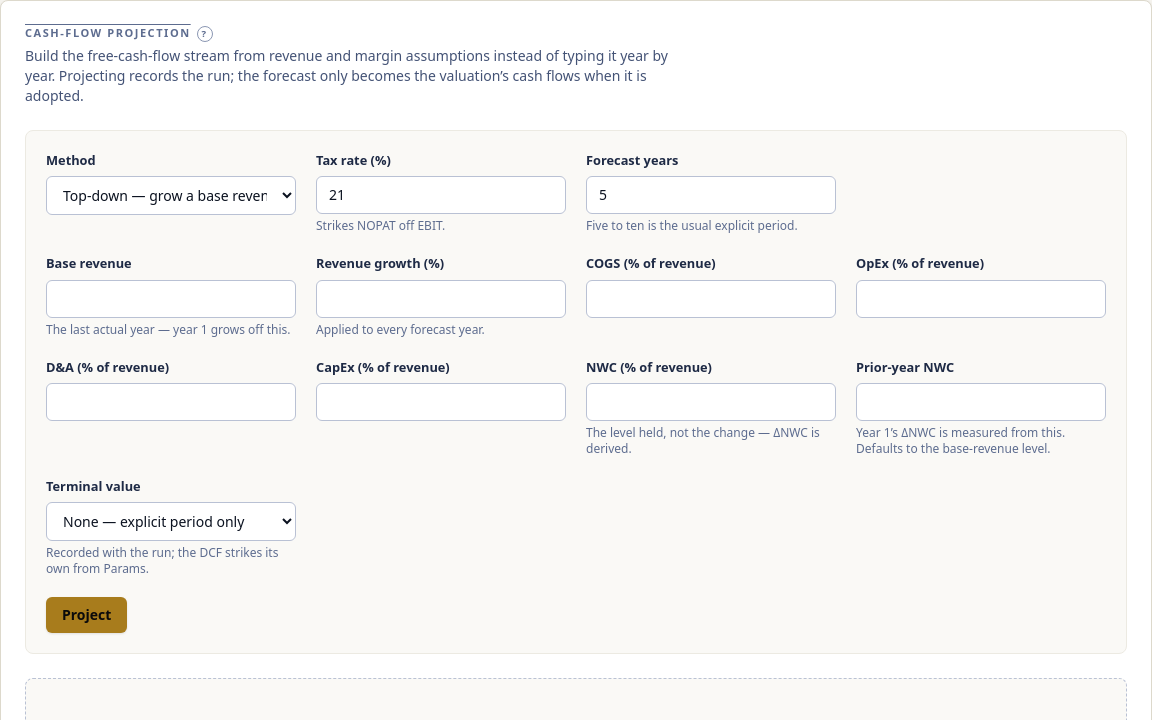
Test: ProjectionPanel › refuses a Gordon terminal value the discount rate cannot support, without a round trip
Type "8000000" into the field labelled "Base revenue" at (171, 299), box [46, 280, 296, 318]
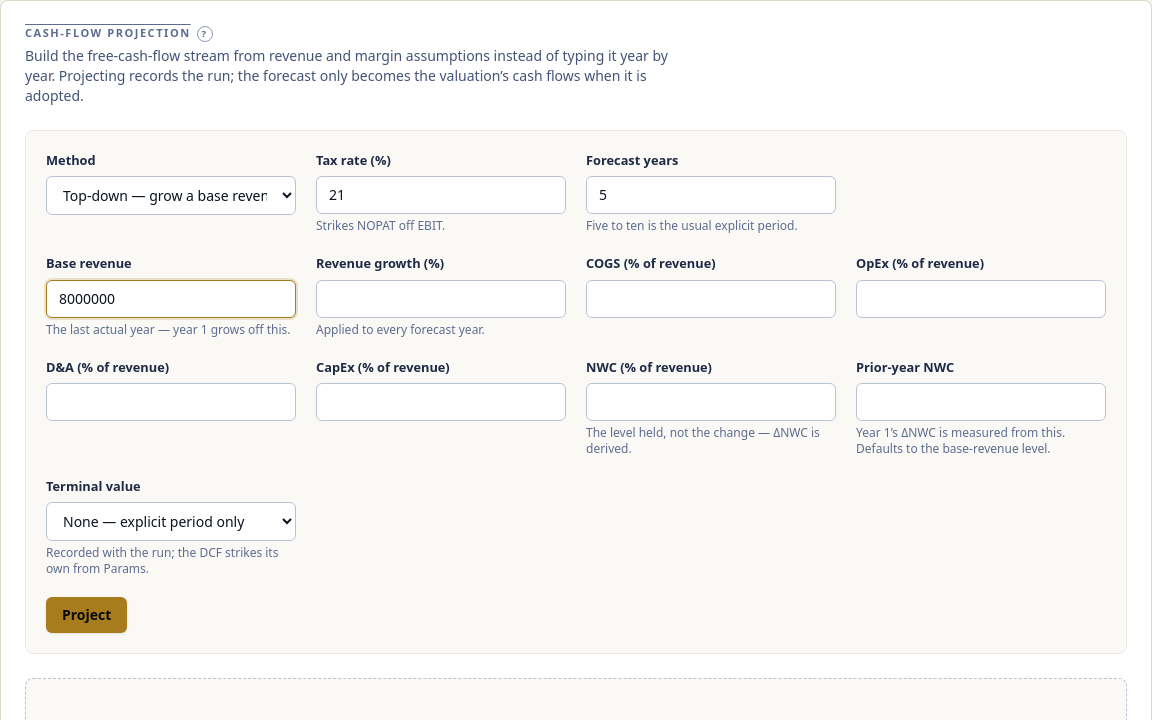
Type "25" into the field labelled "Revenue growth (%)" at (441, 299), box [316, 280, 566, 318]
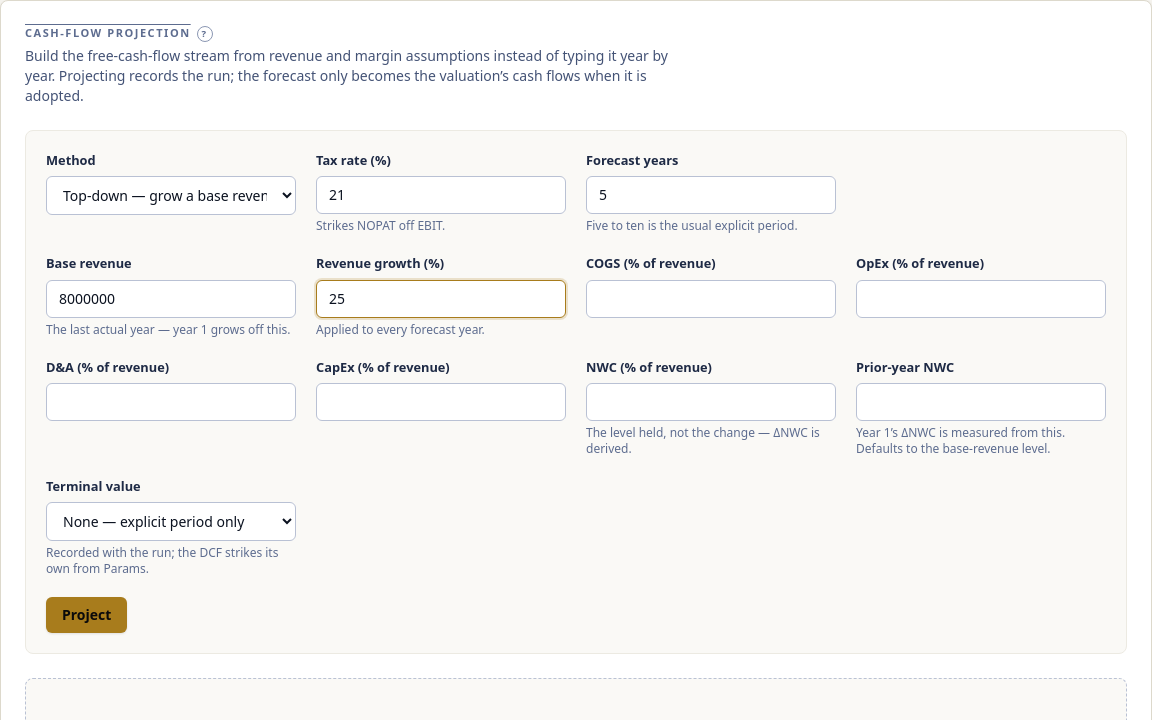
Select "Gordon growth" in the dropdown labelled "Terminal value" at (171, 521), box [46, 502, 296, 541]
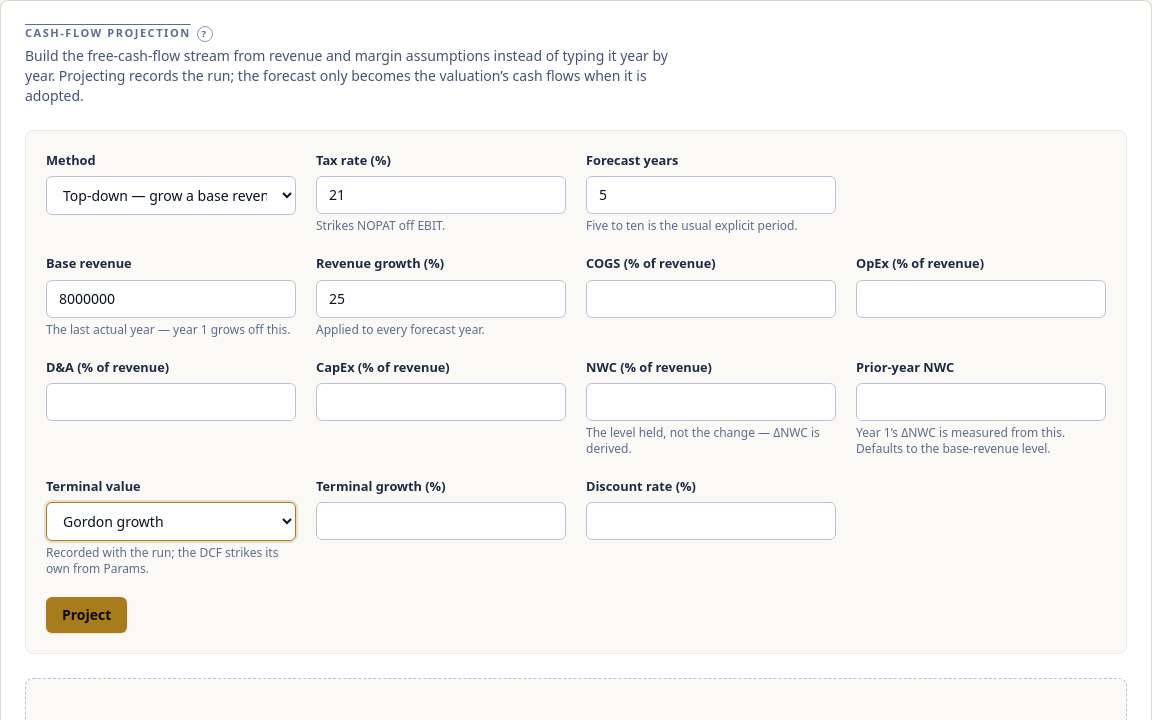
Type "12" into the field labelled "Terminal growth (%)" at (441, 521), box [316, 502, 566, 540]
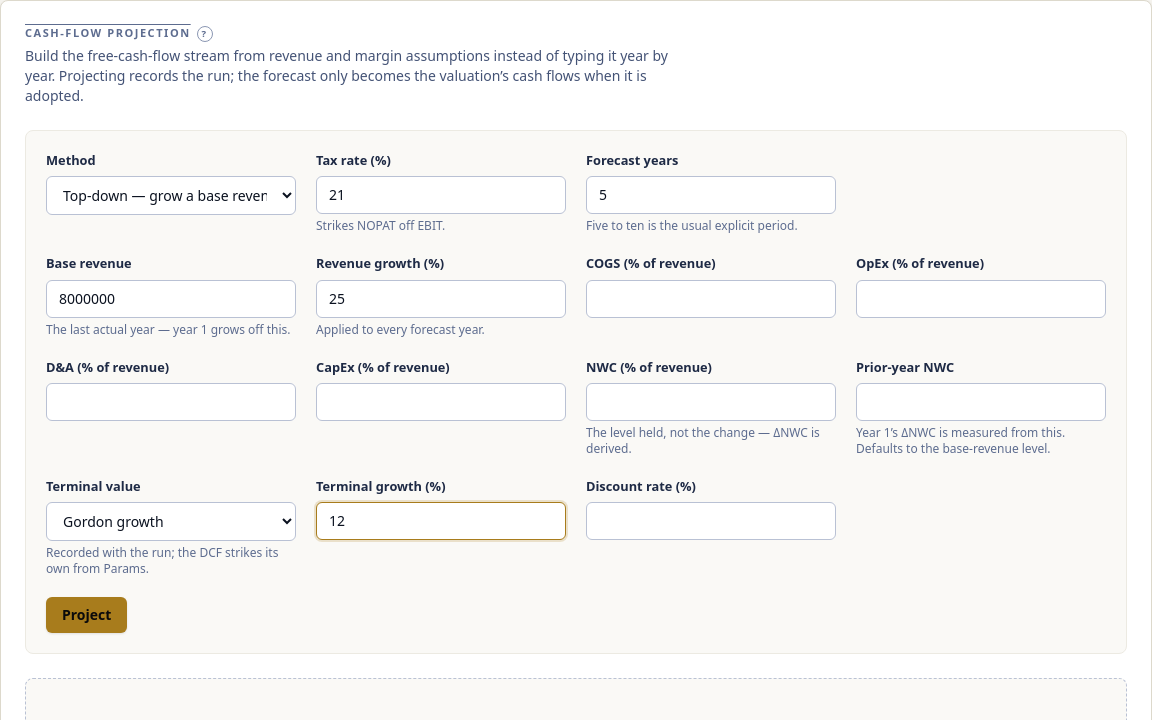
Type "10" into the field labelled "Discount rate (%)" at (711, 521), box [586, 502, 836, 540]
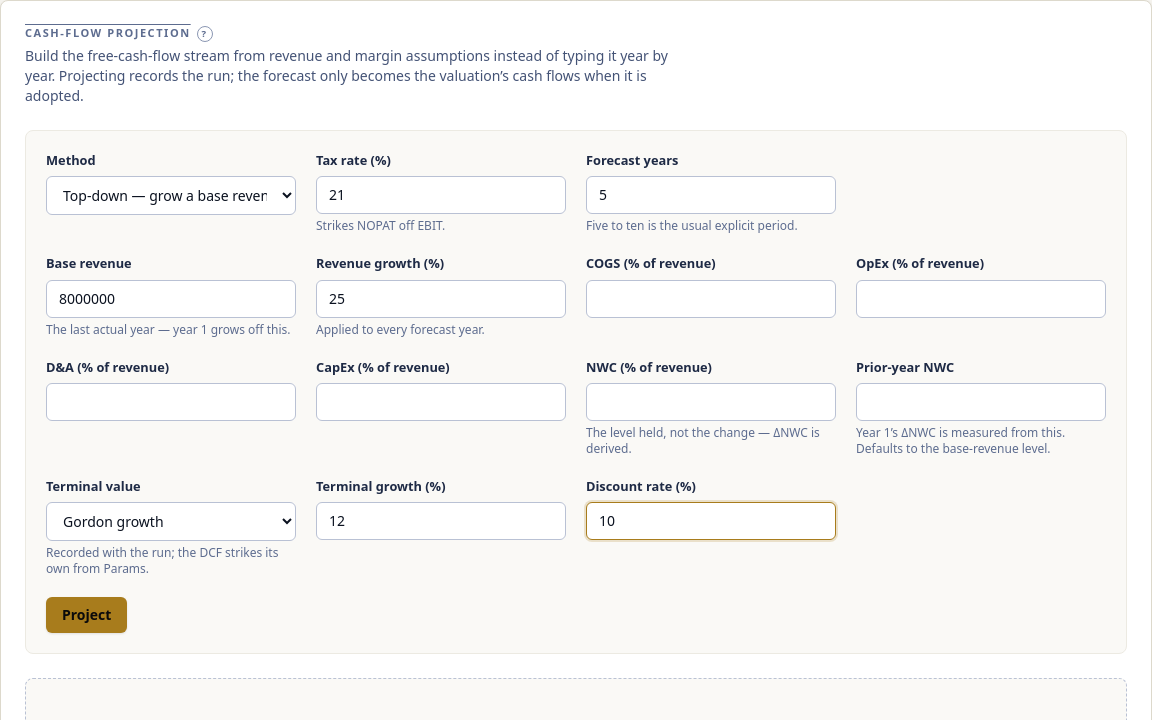
Click the button "Project" at (87, 615), box [46, 597, 127, 633]
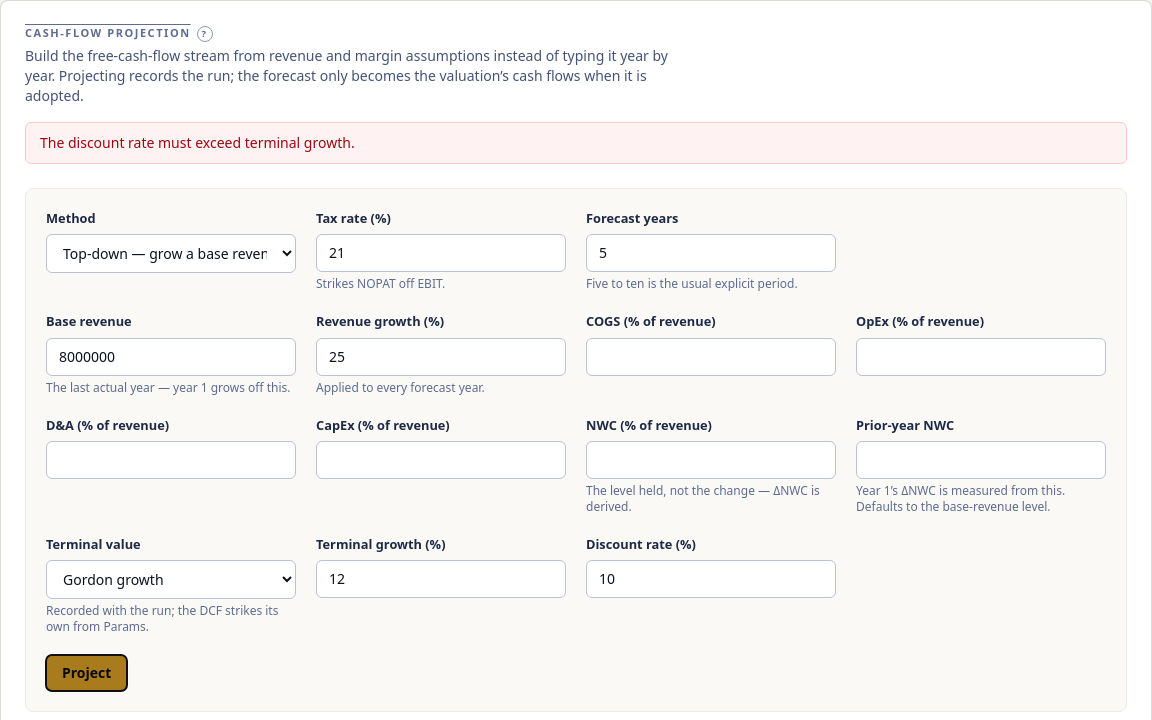
Expected: the text "The discount rate must exceed terminal growth." is shown, [25, 122, 1127, 164]
